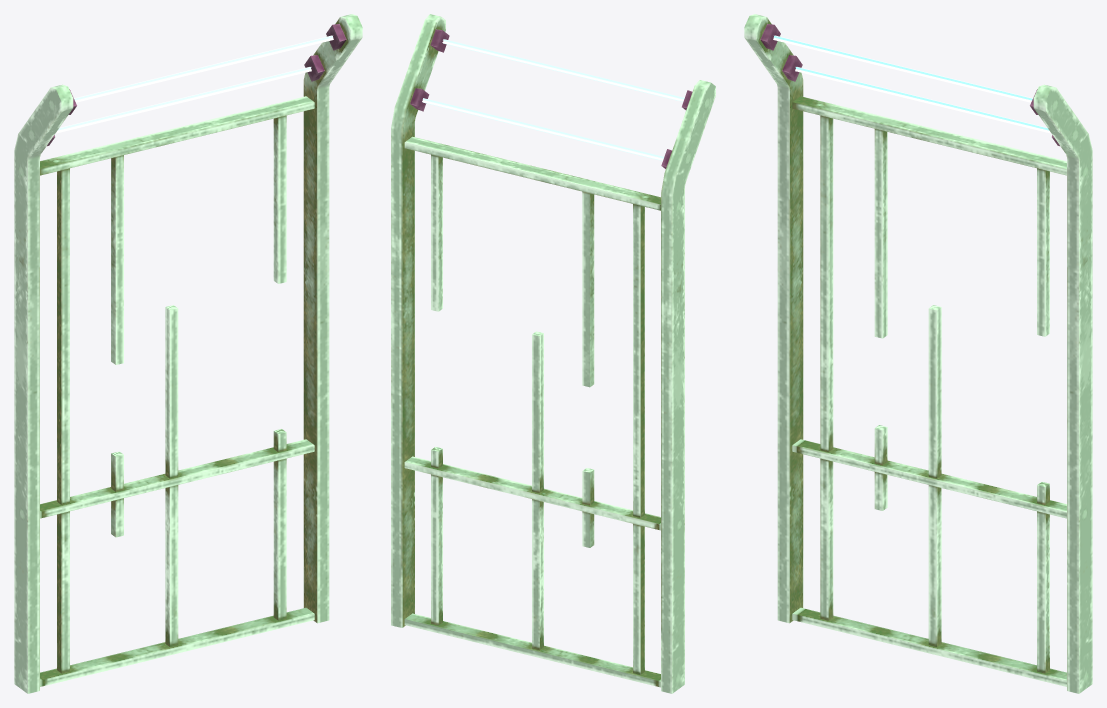
File: CityMiscWalls_Laser_Fence_Weakened.glb
The picture shows the model from 3 angles, left to right: view 1: azimuth 30°, elevation 25°; view 2: azimuth 150°, elevation 25°; view 3: azimuth 330°, elevation 25°; orthographic projection. The views are drawn at different scales.
Parts seen in each view (by area): view 1: Laser_fence_weakened; view 2: Laser_fence_weakened; view 3: Laser_fence_weakened.
Part boxes in pixels (x1,y1,x2,y2): Laser_fence_weakened: (14,14,362,693); Laser_fence_weakened: (391,14,715,693); Laser_fence_weakened: (744,14,1092,693).
Bounding box in the file's own units: 1.03 × 2.04 × 0.2785.
